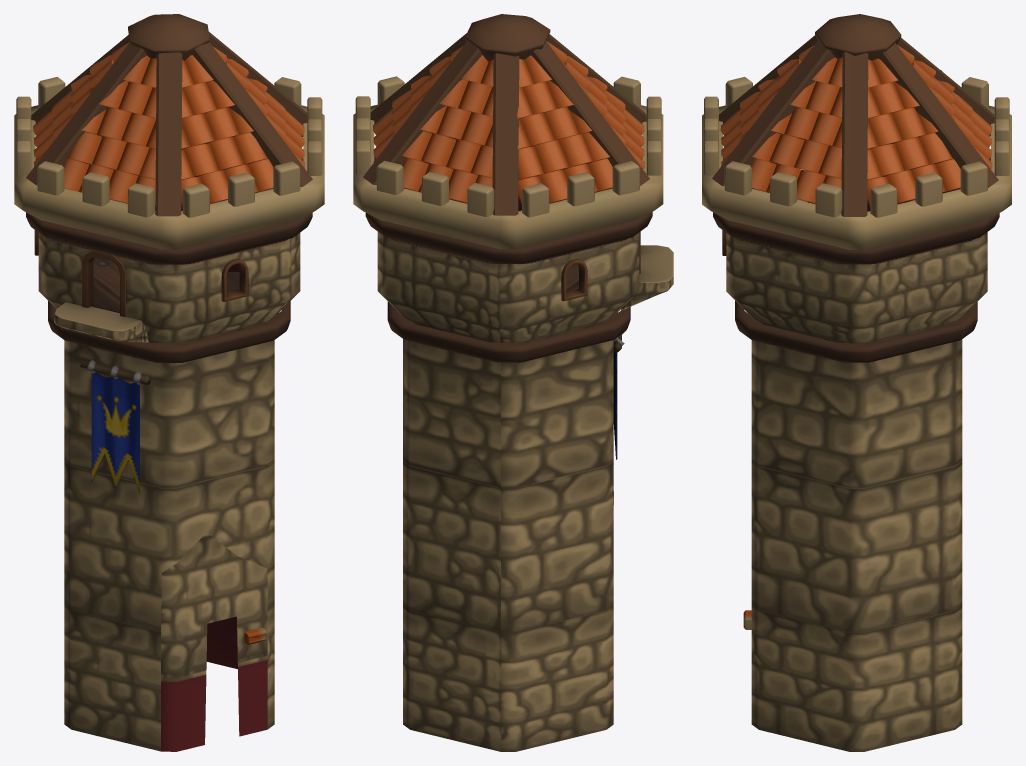
Rendered from bigTower_centered_model.glb.
3 views of the same model, side by side, from view 1: azimuth 30°, elevation 25°; view 2: azimuth 150°, elevation 25°; view 3: azimuth 270°, elevation 25° (orthographic).
Visible parts, largest first — view 1: bigTower_t7; view 2: bigTower_t7; view 3: bigTower_t7.
Boxes of the visible parts, x1=… form: bigTower_t7: x1=14, y1=14, x2=324, y2=751; bigTower_t7: x1=353, y1=14, x2=673, y2=751; bigTower_t7: x1=702, y1=14, x2=1011, y2=751.
Size of what is drawn, in the model's own units: 15.9 by 34.39 by 14.18.
Materials: 1 (1 with a texture image).
